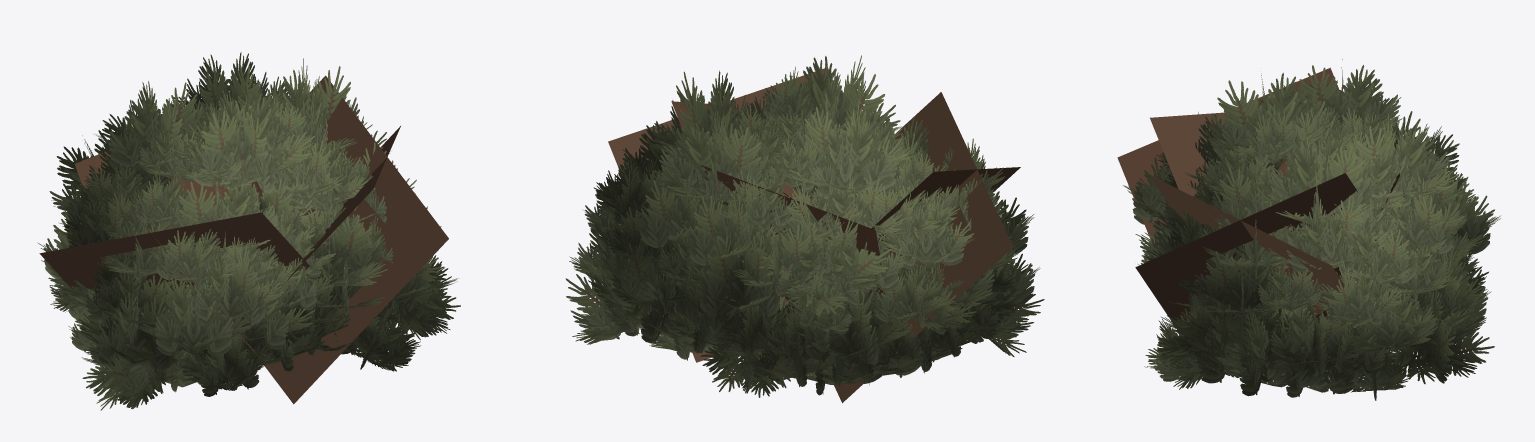
File: SM_Env_Bush_02.fbx
The picture shows the model from 3 angles, left to right: view 1: azimuth 30°, elevation 25°; view 2: azimuth 150°, elevation 25°; view 3: azimuth 270°, elevation 25°; orthographic projection. The views are drawn at different scales.
Parts seen in each view (by area): view 1: SM_Env_Bush_02_LOD0, SM_Env_Bush_02_Branches_LOD0; view 2: SM_Env_Bush_02_LOD0, SM_Env_Bush_02_Branches_LOD0; view 3: SM_Env_Bush_02_LOD0, SM_Env_Bush_02_Branches_LOD0.
Part boxes in pixels (x1=…): SM_Env_Bush_02_LOD0: x1=37, y1=52, x2=460, y2=410; SM_Env_Bush_02_Branches_LOD0: x1=39, y1=75, x2=448, y2=404; SM_Env_Bush_02_LOD0: x1=565, y1=55, x2=1044, y2=397; SM_Env_Bush_02_Branches_LOD0: x1=608, y1=68, x2=1020, y2=403; SM_Env_Bush_02_LOD0: x1=1123, y1=59, x2=1500, y2=400; SM_Env_Bush_02_Branches_LOD0: x1=1117, y1=67, x2=1399, y2=357.
Size of what is drawn, in the model's own units: 328 by 240 by 284.
